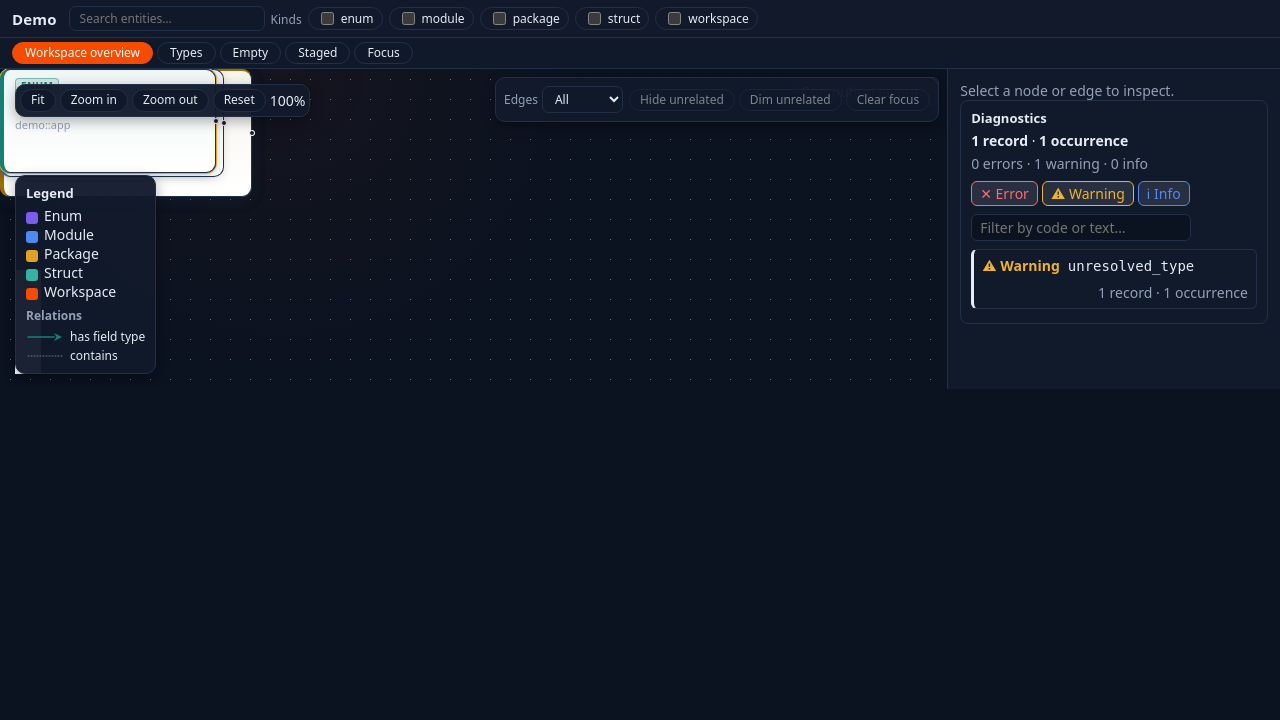
Test case: keyboard + focus › search results are an accessible listbox and selectable by keyboard
In the search field labelled "Search entities": (167, 18) [69,6,265,31], type "Thing"
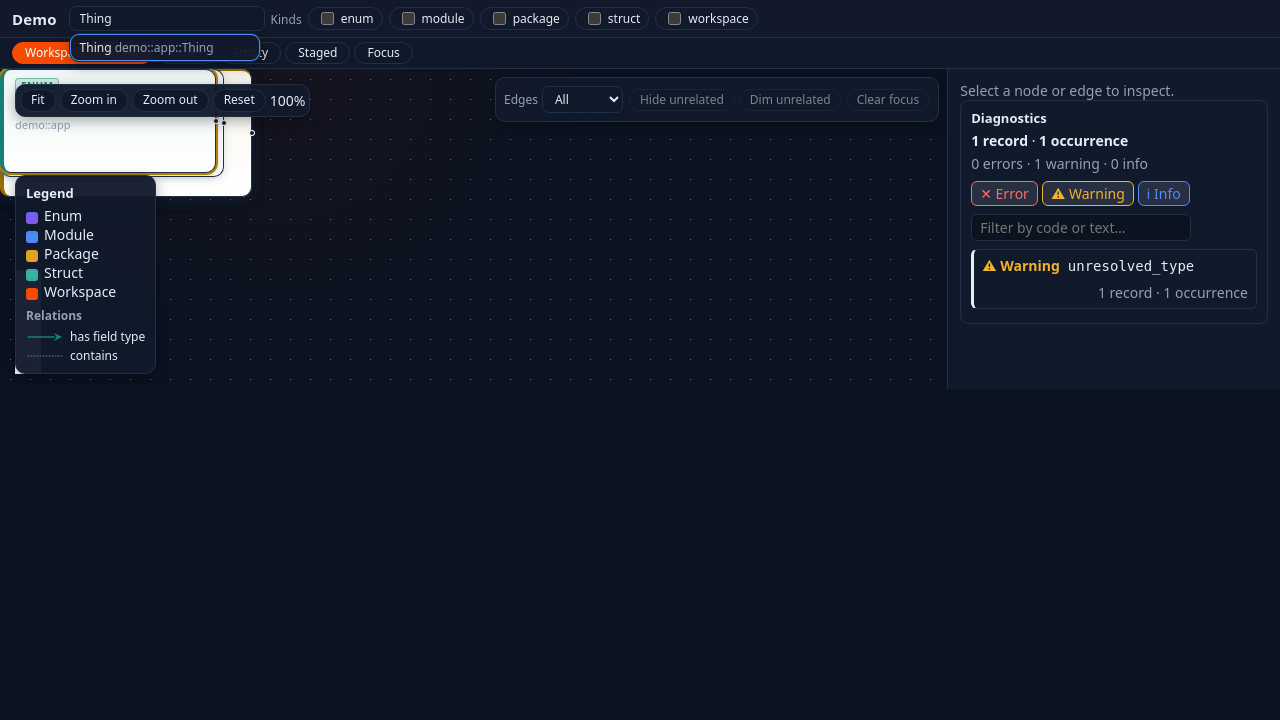
Click the option "Thing demo::app::Thing": (165, 48) [72,36,258,59]
(page scrolled)
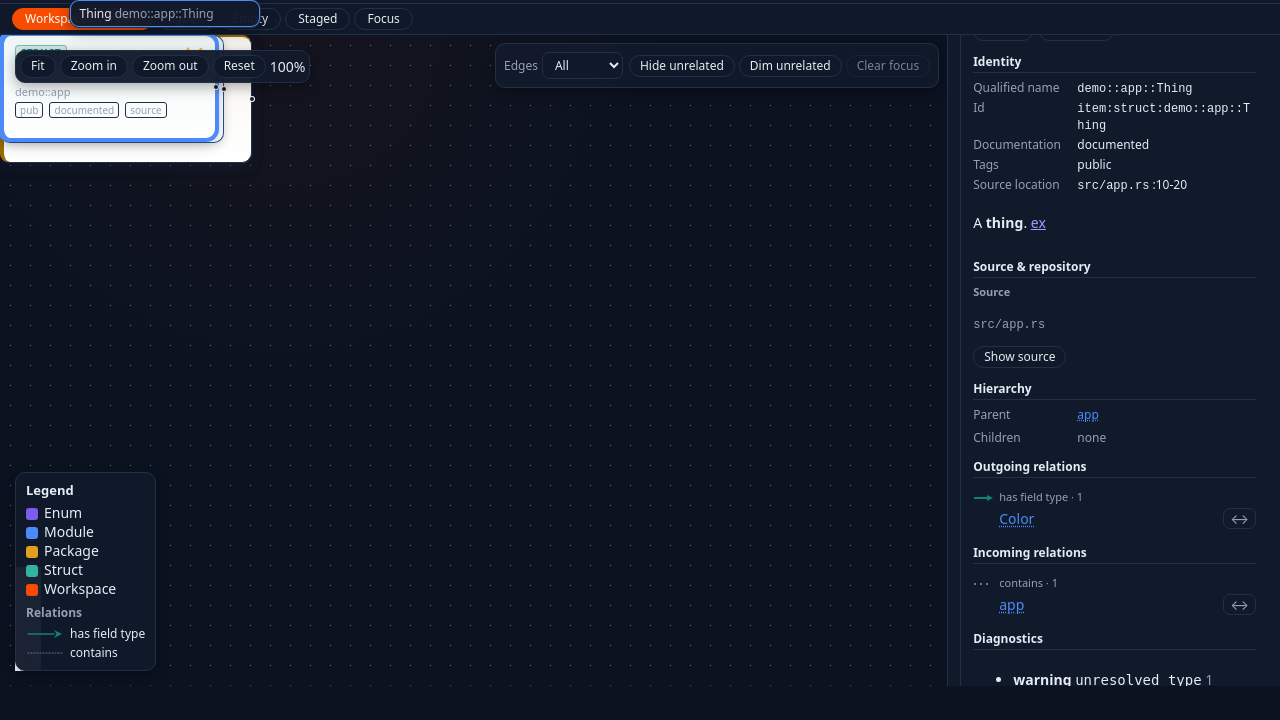
Expected: the element named "Entity inspector" is shown, [960,35,1268,686]
